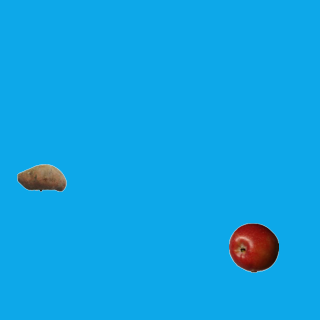Apple Braeburn: (228, 222, 278, 272)
Potato Sweet: (16, 152, 66, 202)
